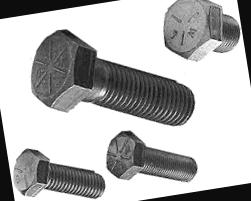hexagonal: (22, 23, 105, 118), (157, 0, 229, 65), (101, 128, 148, 184), (9, 146, 55, 198)
